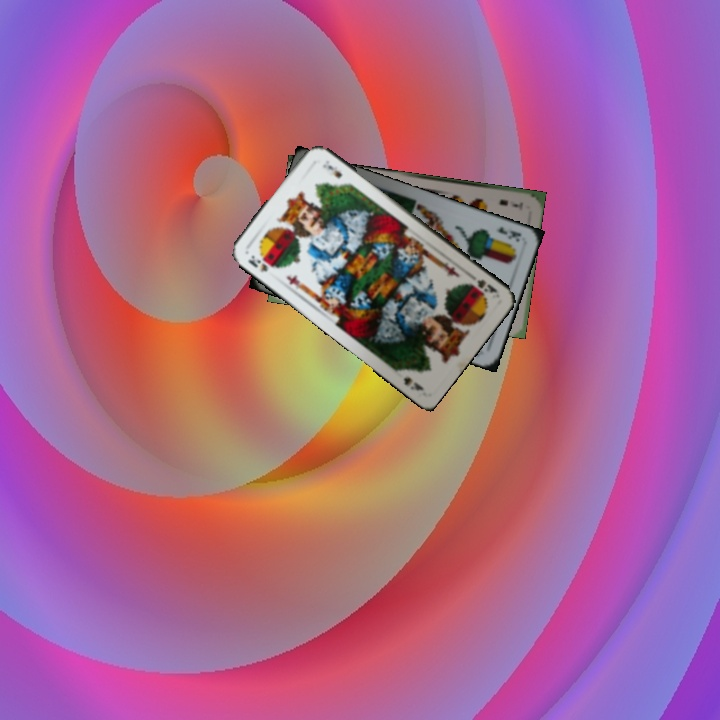E7: (495, 195, 525, 212)
EK: (491, 222, 523, 245)
SK: (465, 270, 500, 297), (244, 251, 270, 275)
